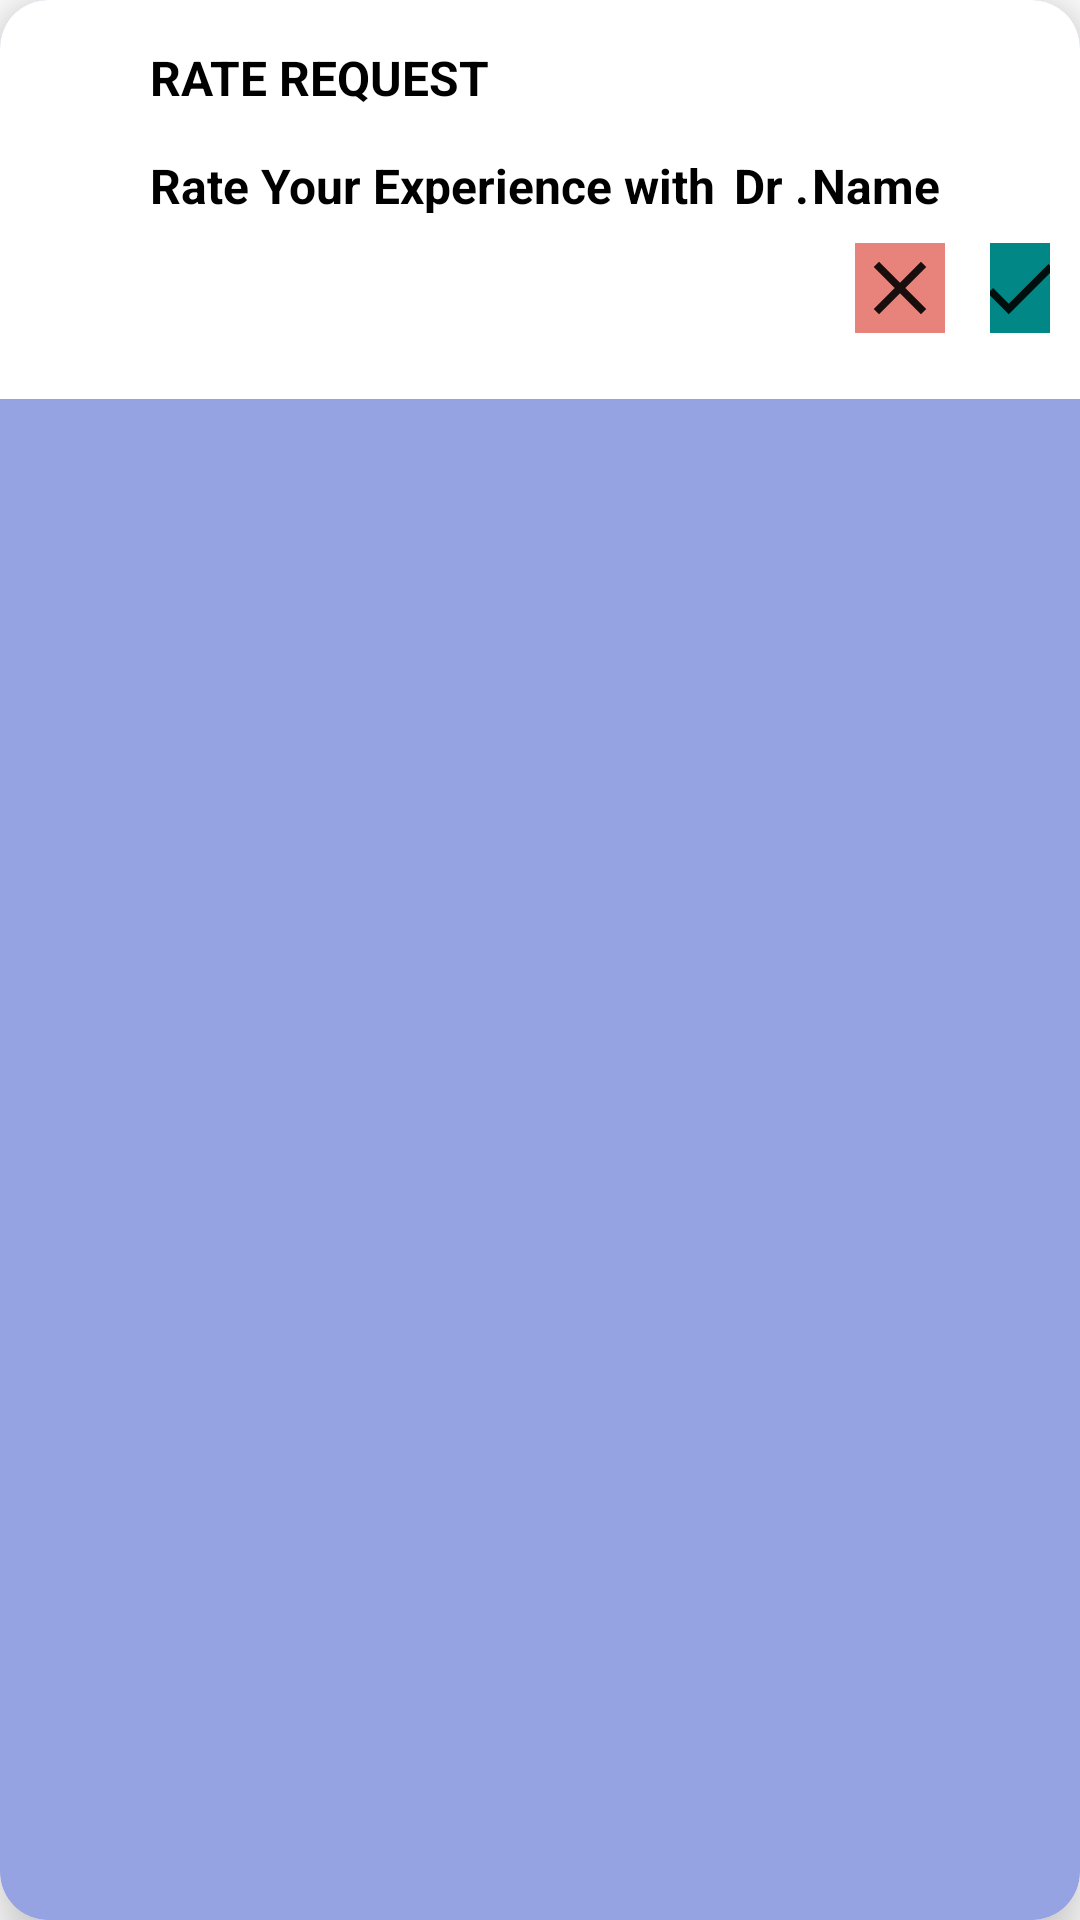

Icon bounding boxes for this 1080 × 1920 phone screenshot, format {"left": x1, "top": y1, "right": x2, "bottom": y2}:
check: {"left": 990, "top": 243, "right": 1050, "bottom": 333}
